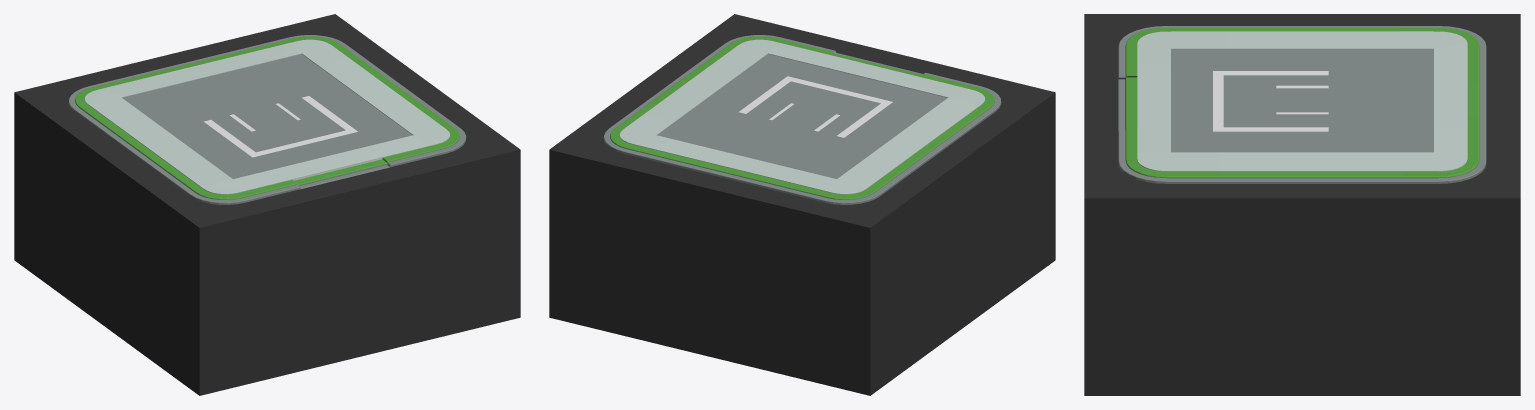
File: SuperficieCuadrada.fbx
The picture shows the model from 3 angles, left to right: view 1: azimuth 30°, elevation 25°; view 2: azimuth 150°, elevation 25°; view 3: azimuth 270°, elevation 25°; orthographic projection. The views are drawn at different scales.
Parts seen in each view (by area): view 1: Cube.001, Tienda.002; view 2: Cube.001, Tienda.002; view 3: Cube.001, Tienda.002.
Boxes of the visible parts, x1=… form: Cube.001: x1=14, y1=14, x2=520, y2=395; Tienda.002: x1=68, y1=35, x2=466, y2=204; Cube.001: x1=549, y1=14, x2=1055, y2=395; Tienda.002: x1=603, y1=35, x2=1001, y2=204; Cube.001: x1=1084, y1=14, x2=1520, y2=395; Tienda.002: x1=1118, y1=26, x2=1486, y2=183.
Bounding box in the file's own units: 2000 × 1028 × 2000.
